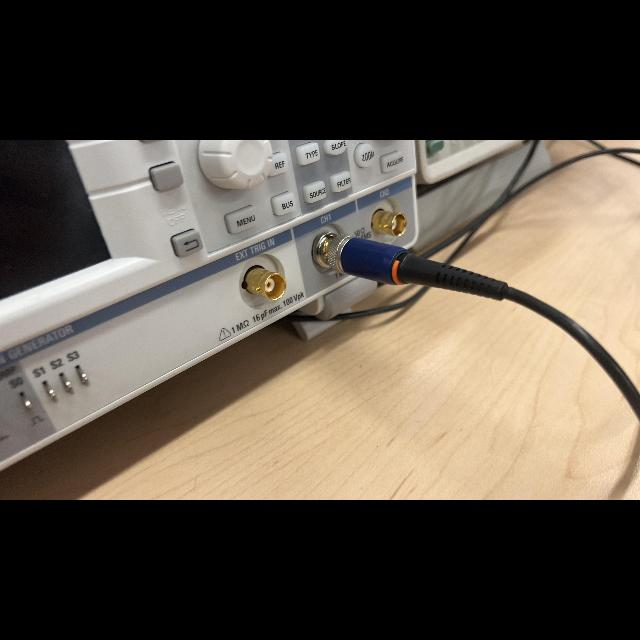Digital-Oscilloscope: (0, 140, 418, 469)
